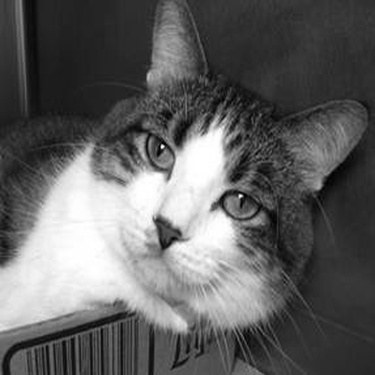cat: (6, 2, 369, 372)
